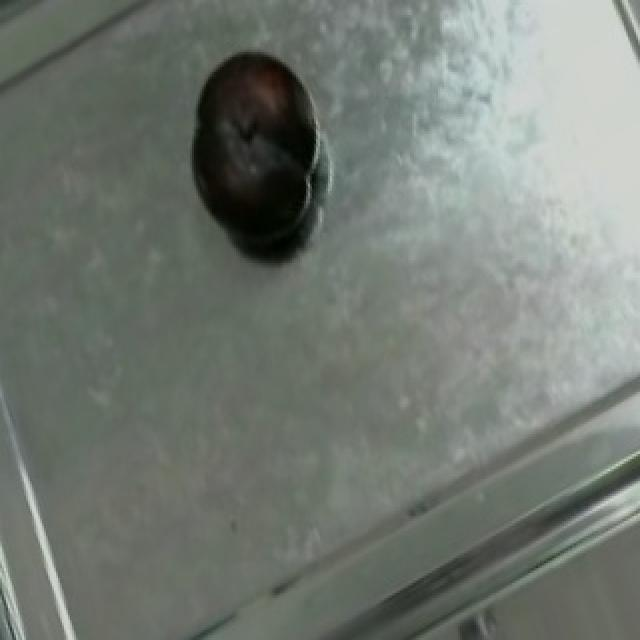Fruit: (172, 29, 332, 250)
